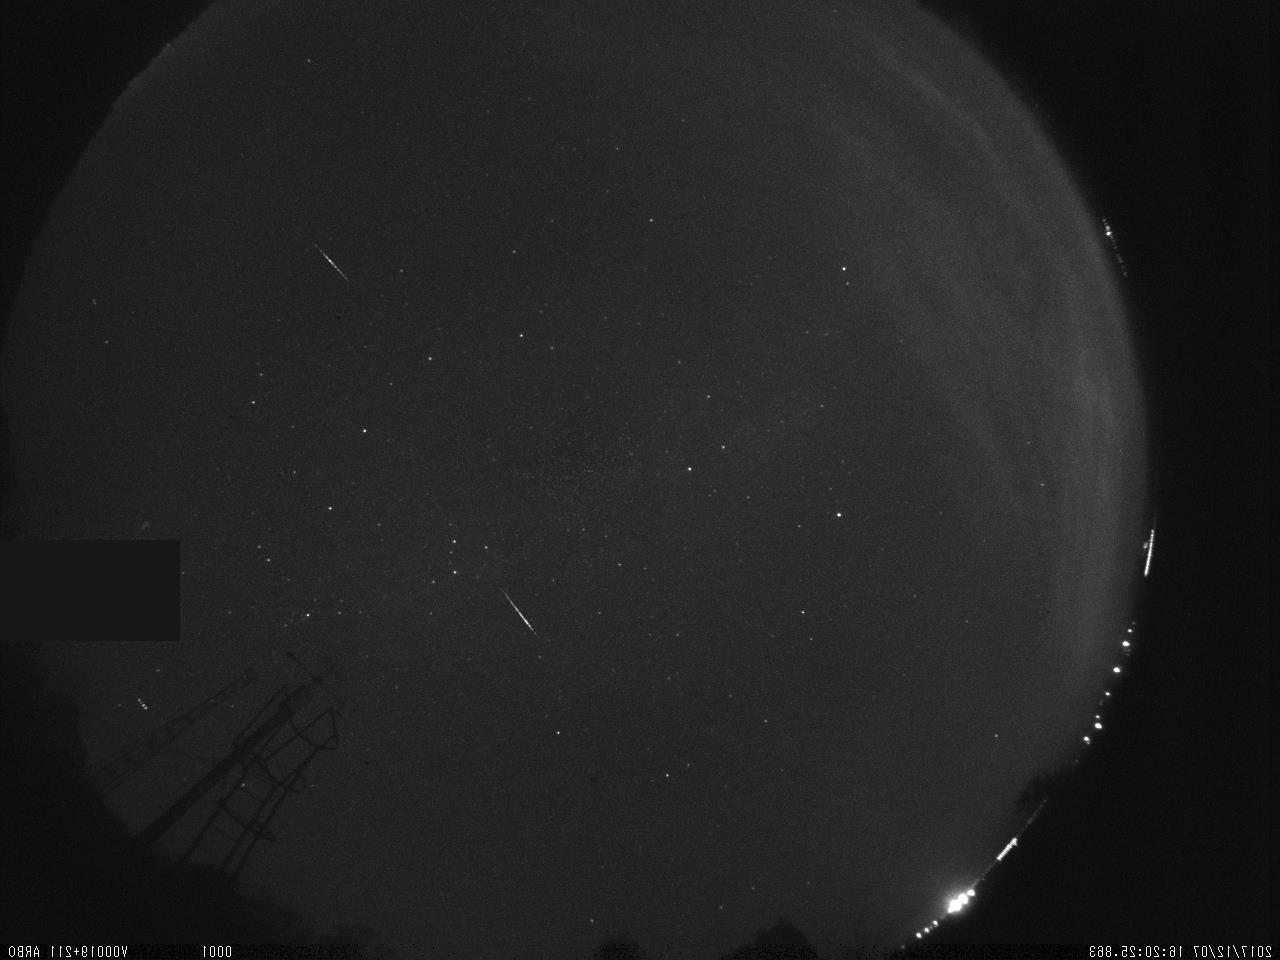meteor: (491, 565, 551, 661)
